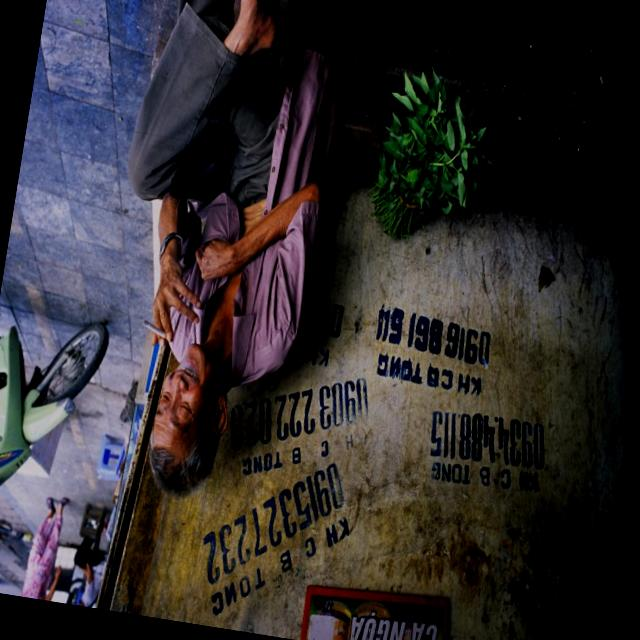smoke: (134, 312, 178, 354)
